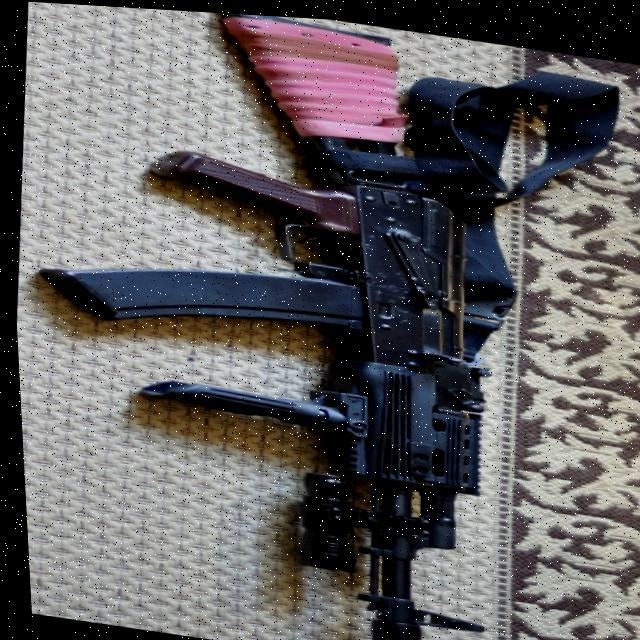firearm: (0, 0, 532, 640)
